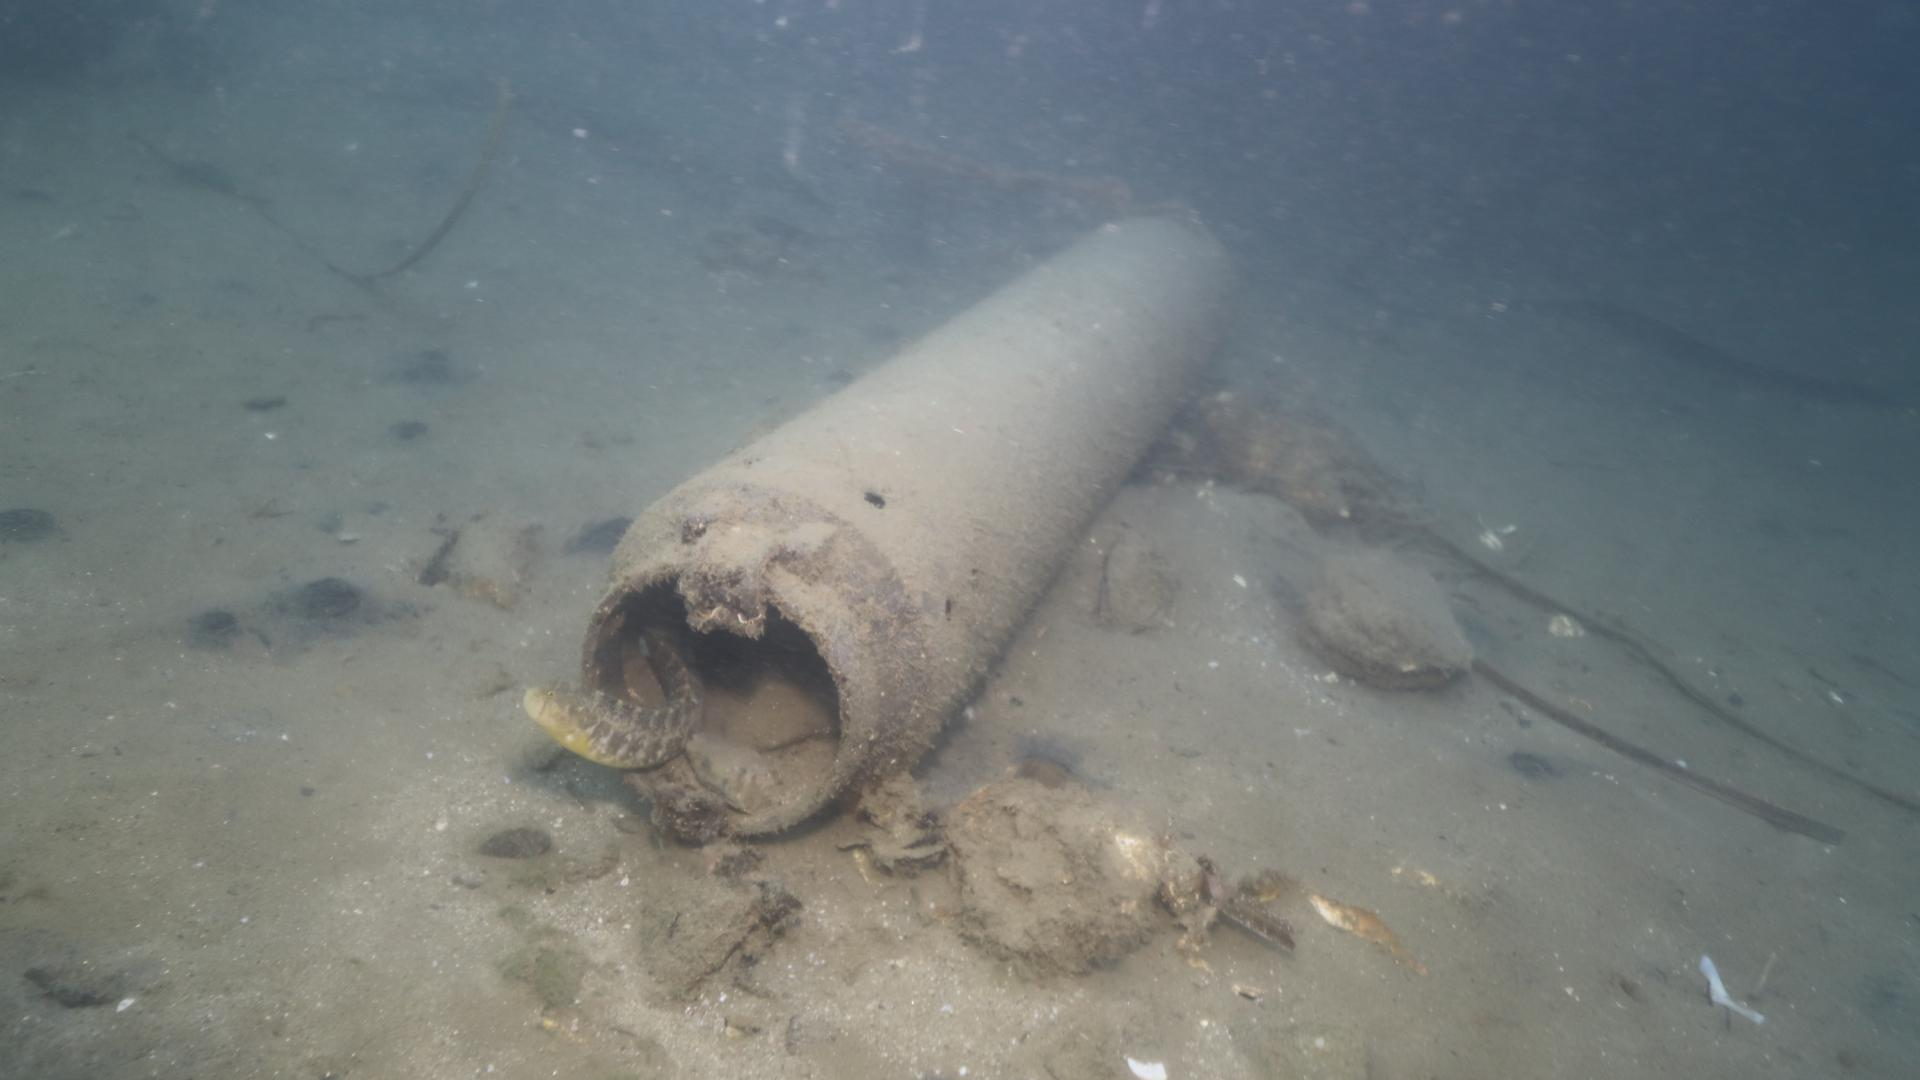eel fish trap: (576, 207, 1238, 844)
